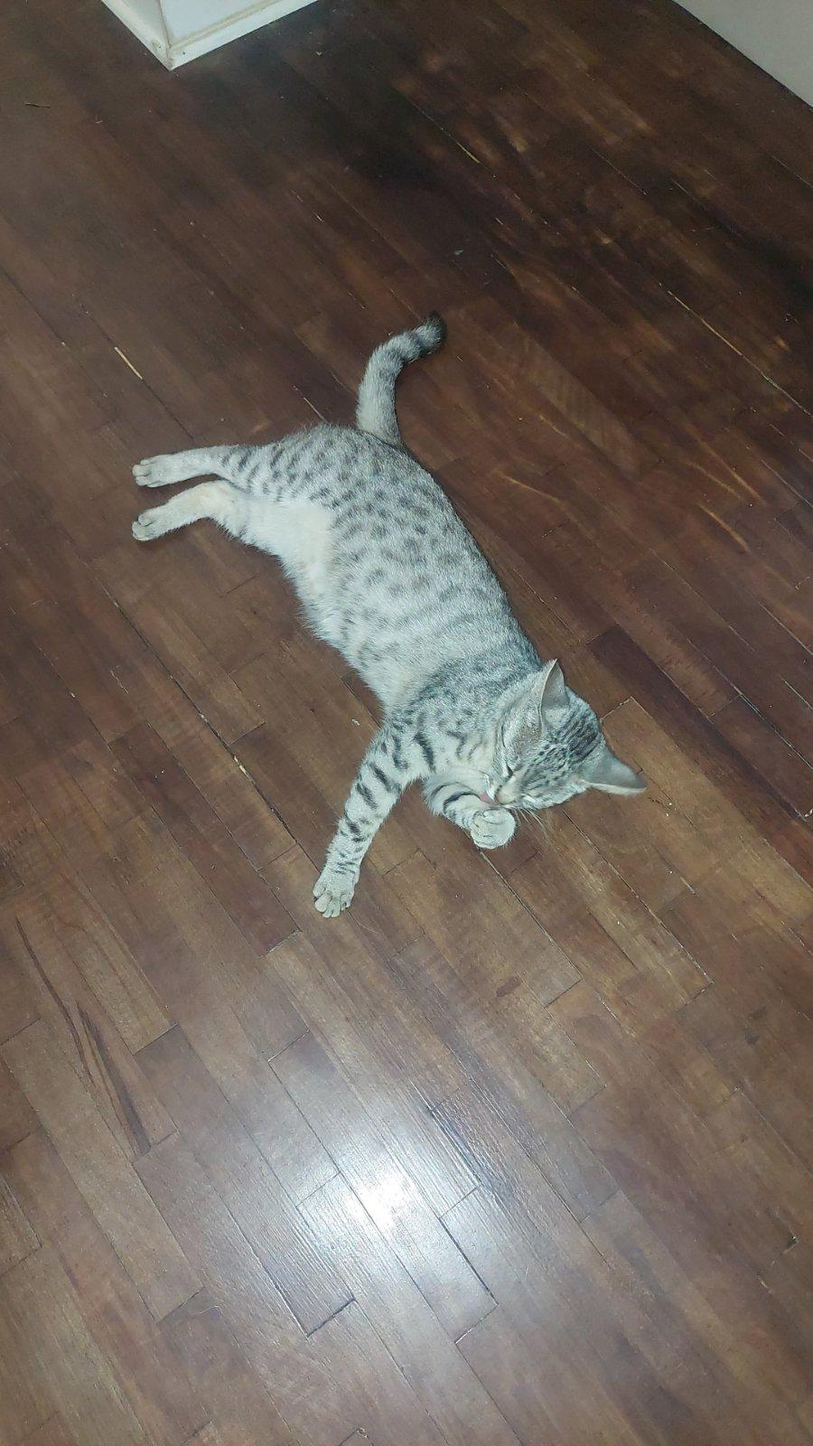macka: (131, 311, 649, 918)
